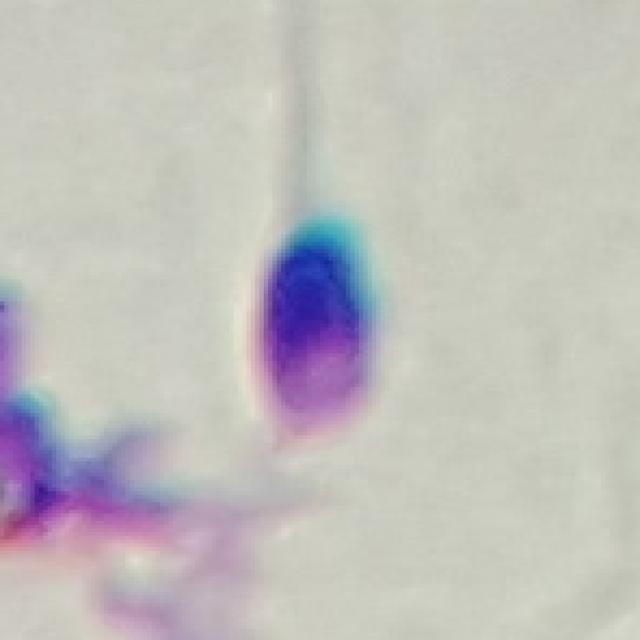normal sperm: (254, 11, 376, 419)
